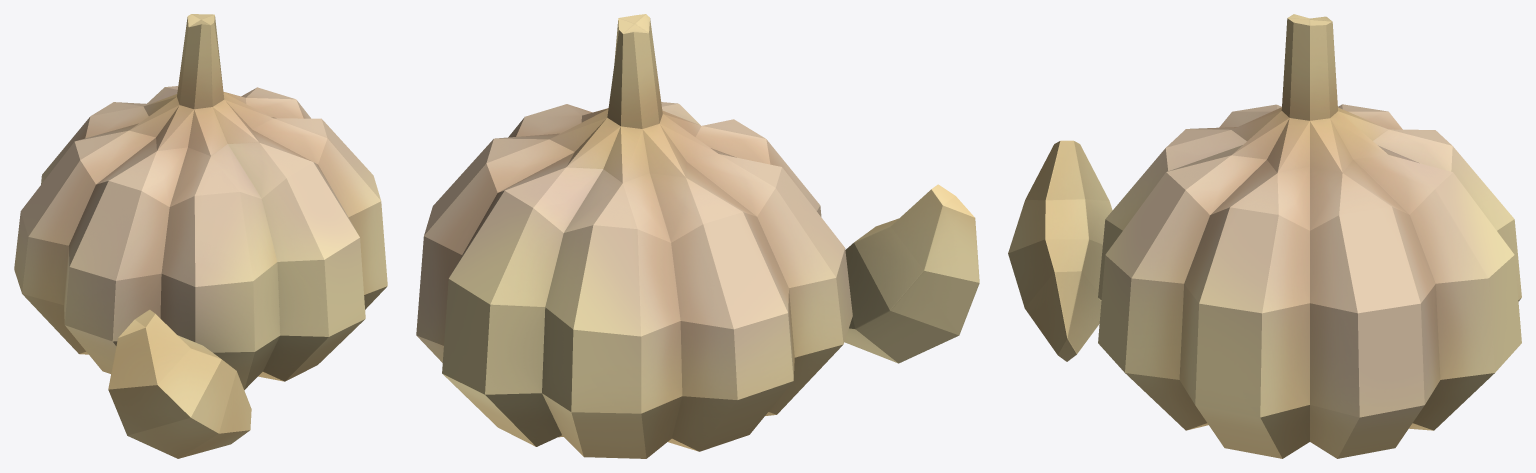
3 renders of one model, left to right at view 1: azimuth 30°, elevation 25°; view 2: azimuth 150°, elevation 25°; view 3: azimuth 270°, elevation 25°, orthographic. The views are drawn at different scales.
Visible parts, largest first — view 1: Garlic_mesh; view 2: Garlic_mesh; view 3: Garlic_mesh.
Part boxes in pixels (x1=…): Garlic_mesh: x1=14, y1=14, x2=387, y2=458; Garlic_mesh: x1=416, y1=14, x2=979, y2=458; Garlic_mesh: x1=1008, y1=14, x2=1521, y2=458.
Size of the model in its own units: 5.01 by 4.58 by 5.45.
1 material, 1 textured.
